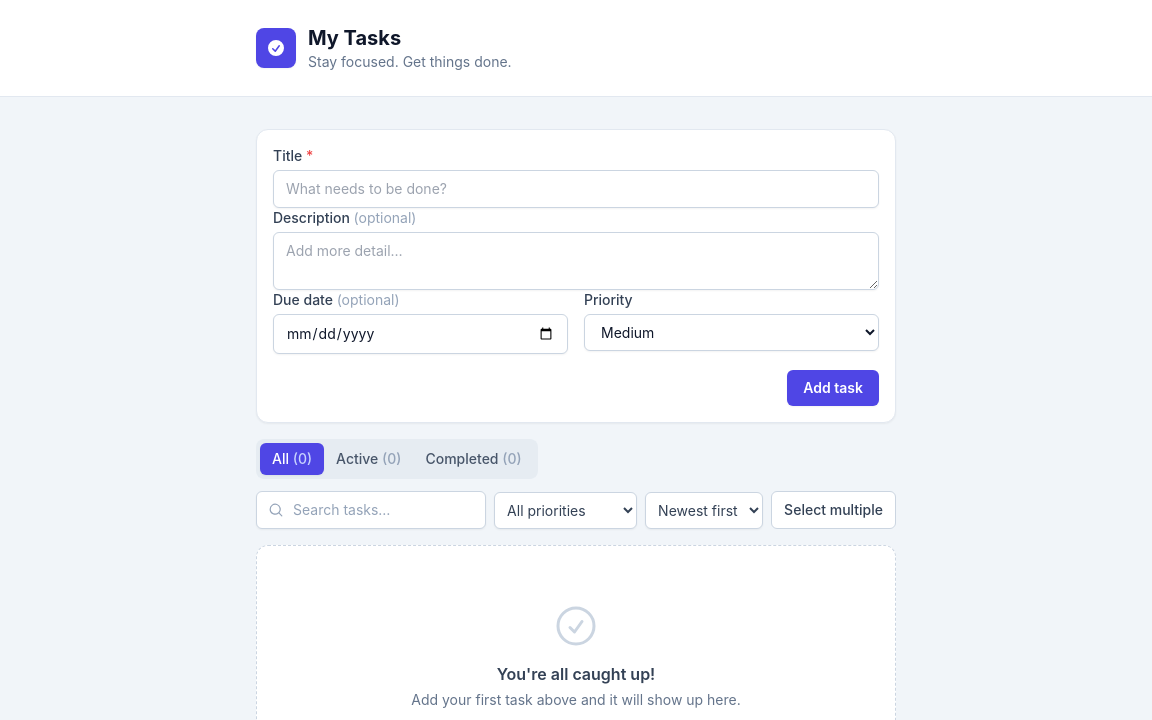
Scenario: App › blocks duplicate active titles case-insensitively
In the field labelled "Title *": [576, 189] box [273, 170, 879, 208], type "Buy milk"
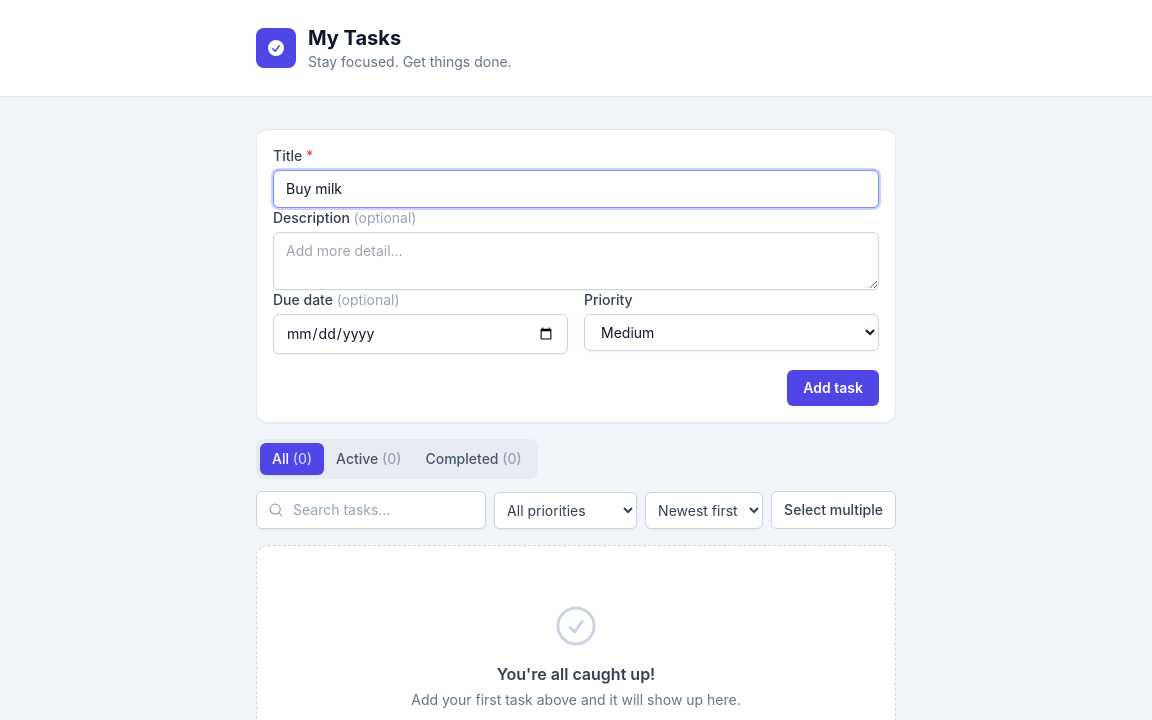
Click the button "Add task": [833, 388] box [787, 370, 879, 406]
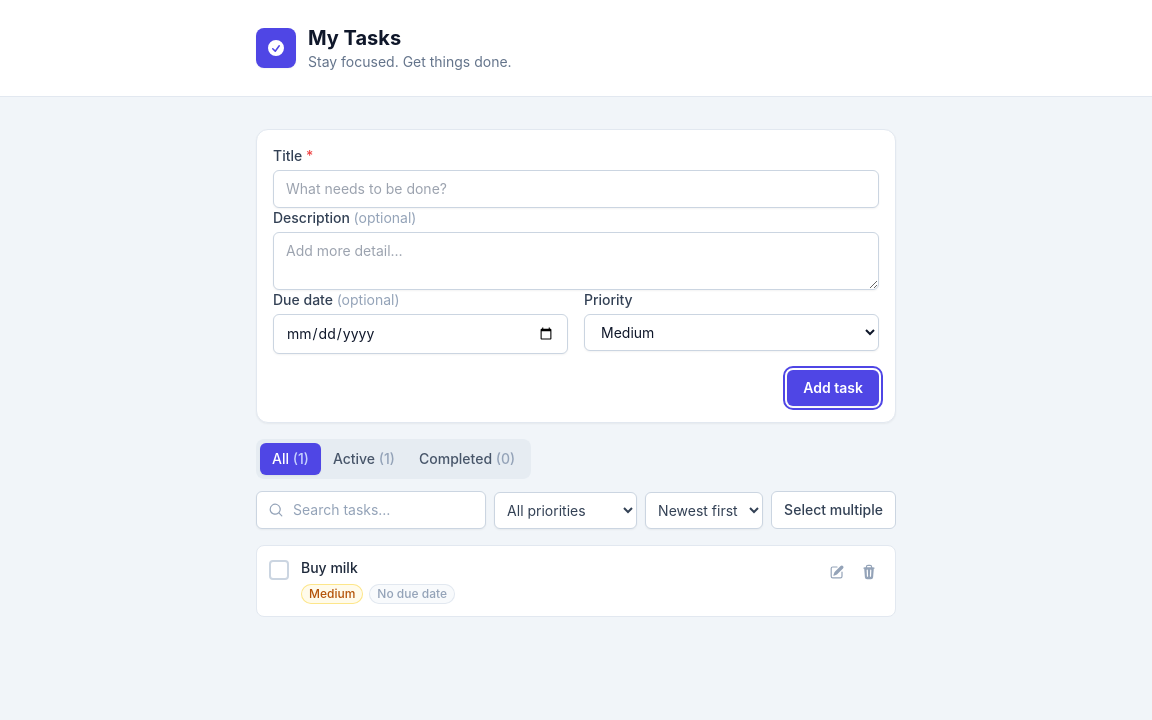
In the field labelled "Title *": [576, 189] box [273, 170, 879, 208], type "BUY MILK"
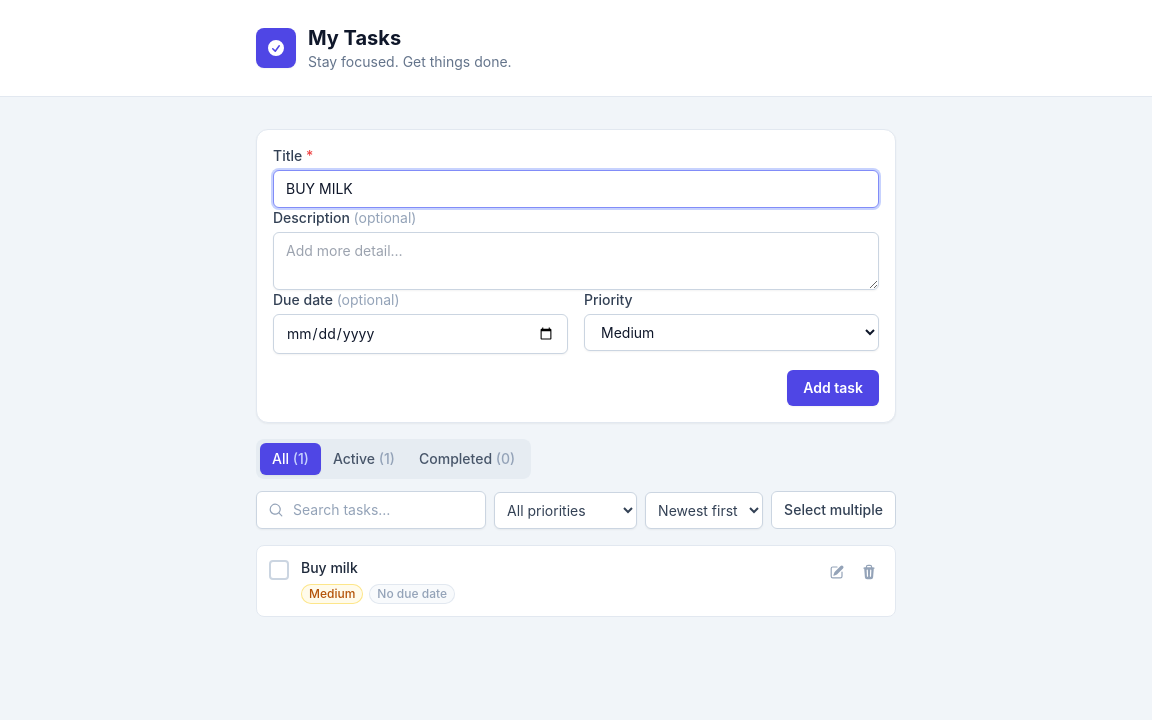
Click the button "Add task": [833, 388] box [787, 370, 879, 406]
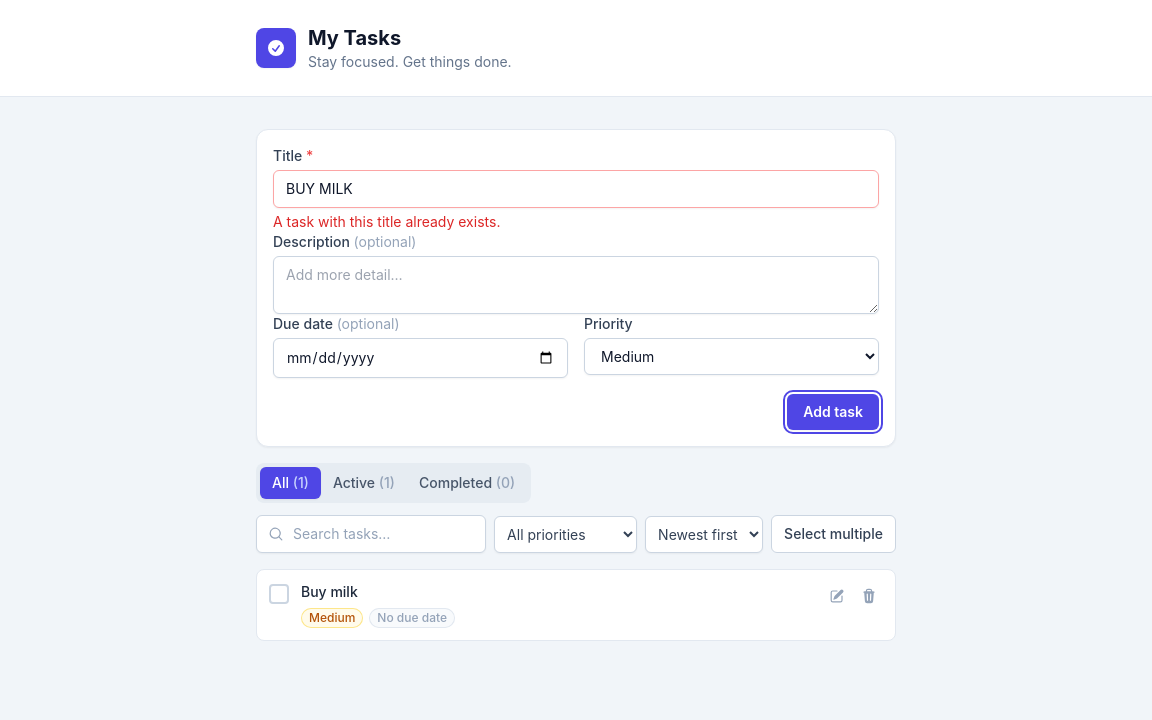
Check: the text "Buy milk" is shown, box [301, 583, 358, 600]
Check: the message reads "A task with this title already exists.", box [273, 213, 500, 230]
